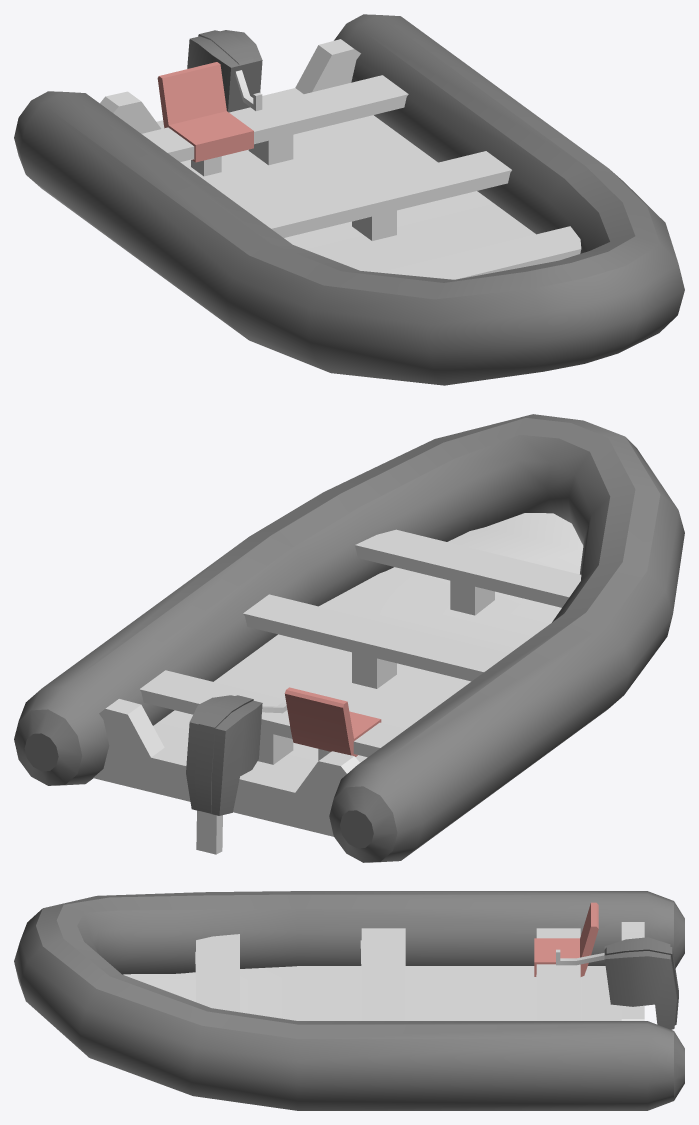
File: rhib.fbx
The picture shows the model from 3 angles, top to bottom: view 1: azimuth 30°, elevation 25°; view 2: azimuth 150°, elevation 25°; view 3: azimuth 270°, elevation 25°; orthographic projection. The views are drawn at different scales.
Visible parts, largest first — view 1: RHIB; view 2: RHIB; view 3: RHIB.
Part boxes in pixels (x1=…): RHIB: x1=14, y1=14, x2=684, y2=385; RHIB: x1=14, y1=414, x2=684, y2=862; RHIB: x1=14, y1=891, x2=684, y2=1110.
Bounding box in the file's own units: 3.4 × 1.32 × 5.8.
